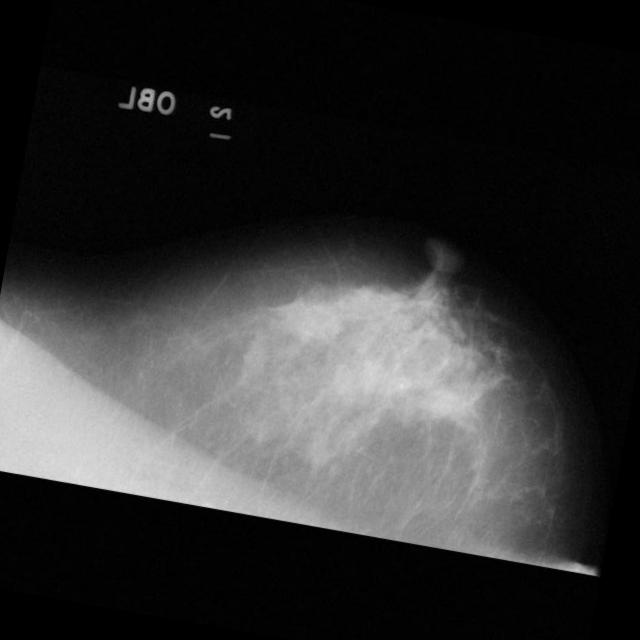ARCH: (407, 344, 522, 460)
